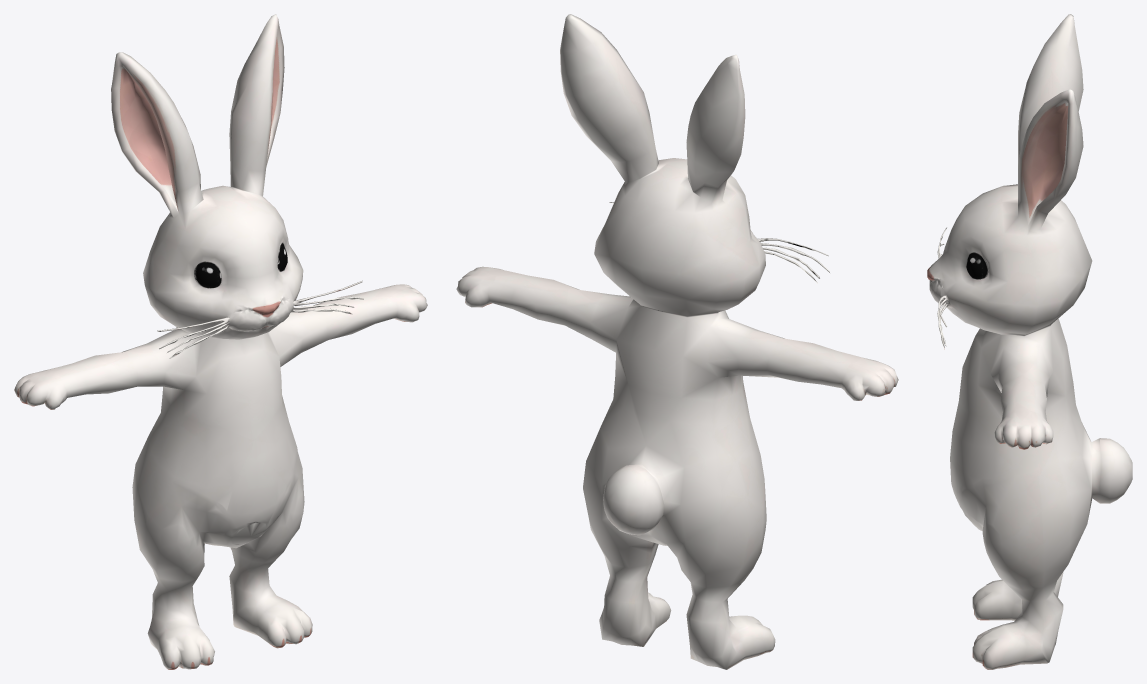
Rendered from rabbit.fbx.
3 views of the same model, side by side, from view 1: azimuth 30°, elevation 25°; view 2: azimuth 150°, elevation 25°; view 3: azimuth 270°, elevation 25° (orthographic). The views are drawn at different scales.
Visible parts, largest first — view 1: output_unwrapped; view 2: output_unwrapped; view 3: output_unwrapped.
Part boxes in pixels (x1=…): output_unwrapped: x1=14, y1=14, x2=427, y2=669; output_unwrapped: x1=456, y1=14, x2=898, y2=669; output_unwrapped: x1=927, y1=14, x2=1132, y2=669.
Bounding box in the file's own units: 0.7129 × 0.998 × 0.3184.
Materials: 1 (1 with a texture image).
